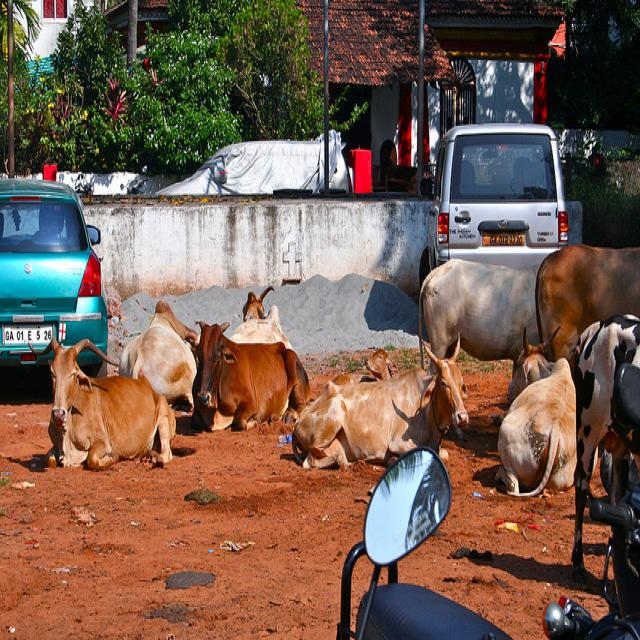motor: (334, 444, 501, 632)
